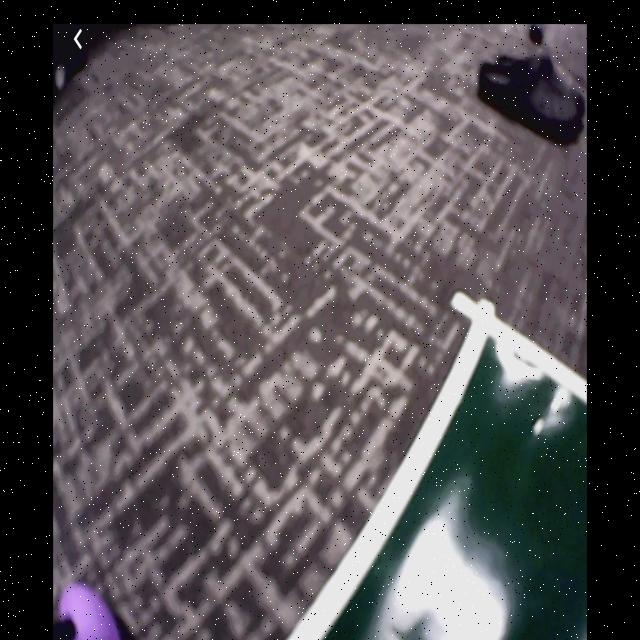ball: (58, 584, 120, 638)
